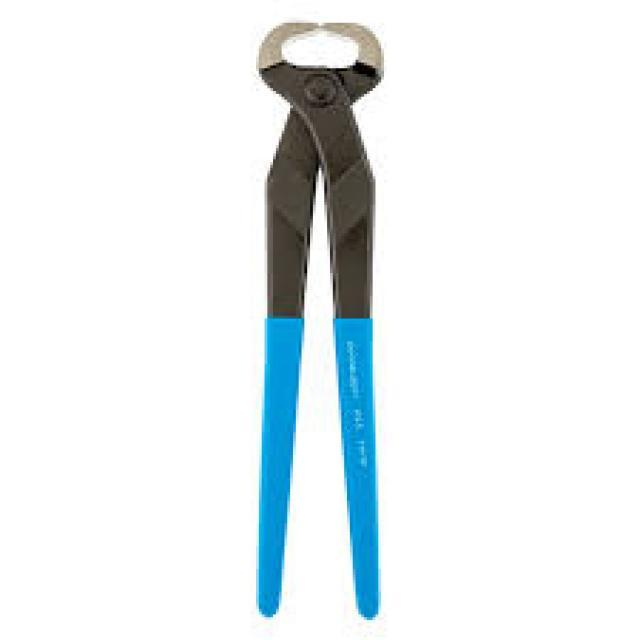pliers: (241, 13, 404, 626)
